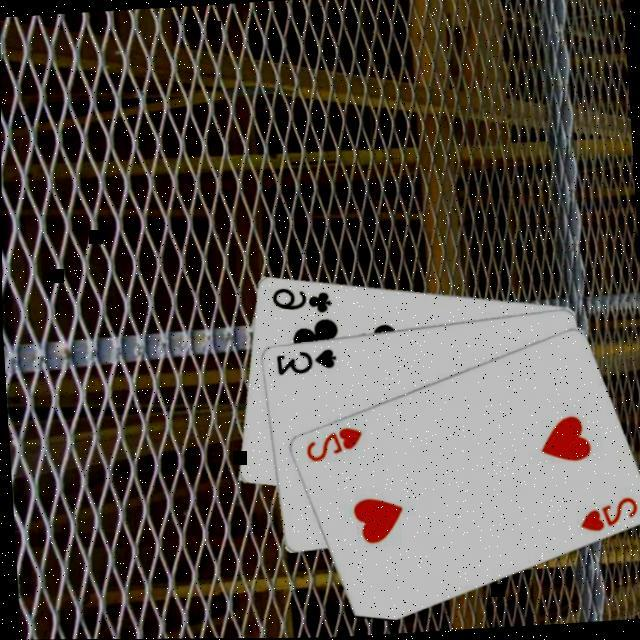2H: (573, 492, 639, 534), (300, 422, 364, 462)
3S: (270, 343, 338, 376)
9C: (266, 280, 334, 316)
